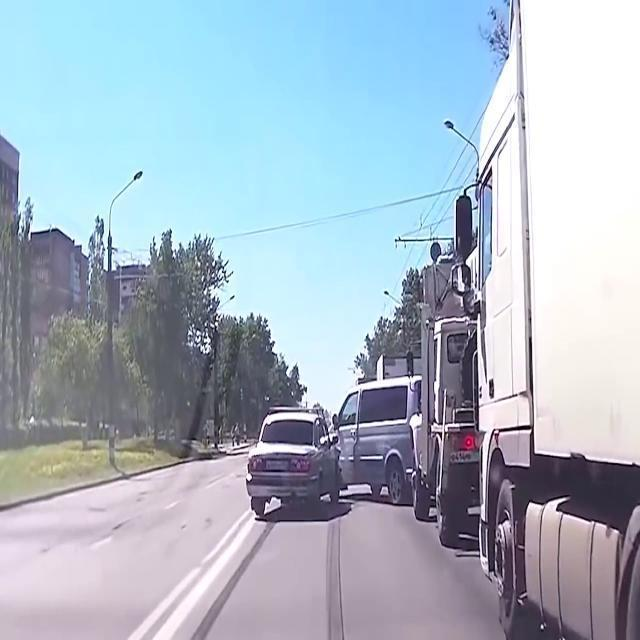accident: (245, 375, 427, 523)
non-accident: (342, 0, 640, 640)
